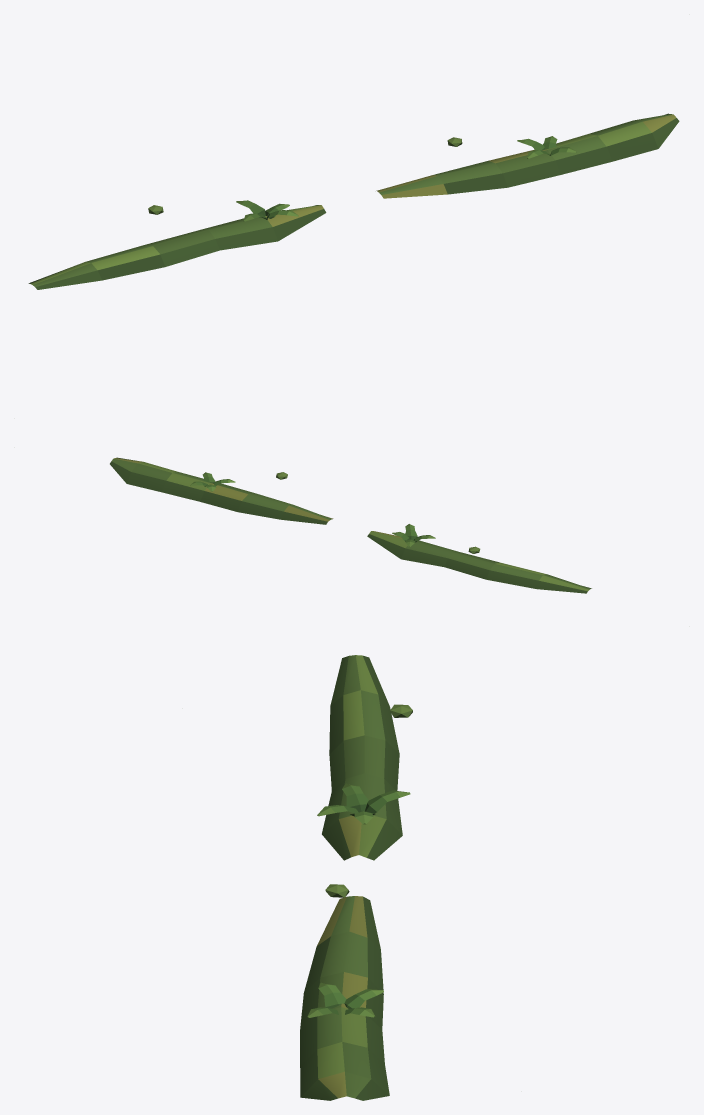
The model's file is MossyLog_leaf.glb.
3 views of the same model, one above another, from view 1: azimuth 30°, elevation 25°; view 2: azimuth 150°, elevation 25°; view 3: azimuth 270°, elevation 25° (orthographic). The views are drawn at different scales.
Visible parts, largest first — view 1: MossyLog_leaf; view 2: MossyLog_leaf; view 3: MossyLog_leaf.
Boxes of the visible parts, x1,y1,x2,y2 form: MossyLog_leaf: (28, 113, 679, 289); MossyLog_leaf: (110, 457, 591, 593); MossyLog_leaf: (300, 655, 412, 1100).
Bounding box in the file's own units: 26.3 × 4.11 × 6.54.
